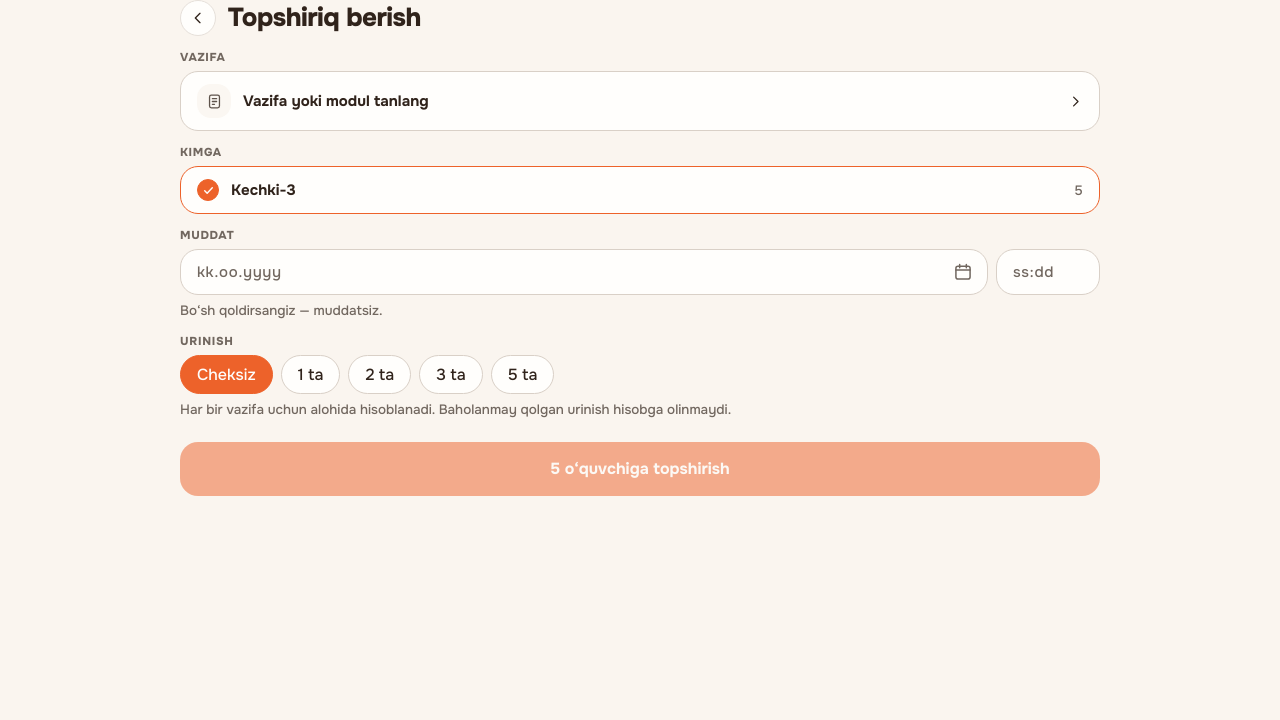
Scenario: one press, one write › stays live after a FAILED write so the teacher can retry
Click the button "Vazifa yoki modul tanlang" at (214, 101), box [180,71,1100,131]
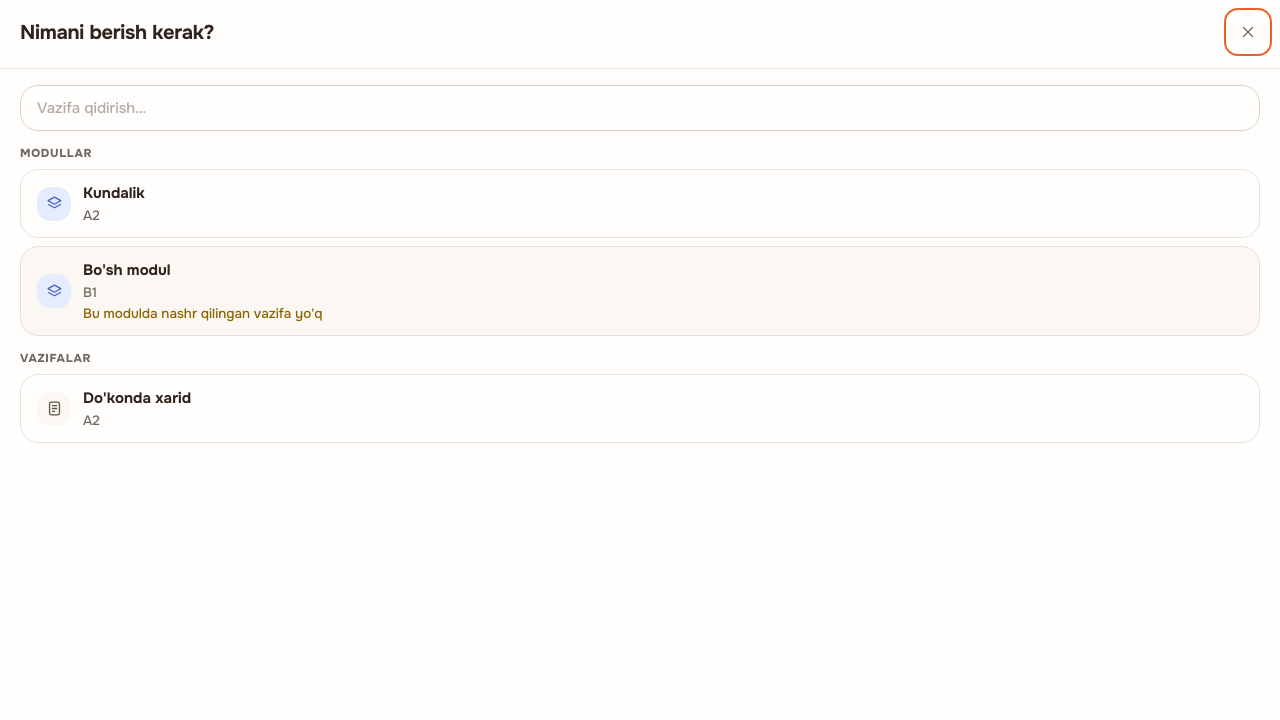
Click the button "Do'konda xarid A2" at (54, 408), box [20,374,1260,443]
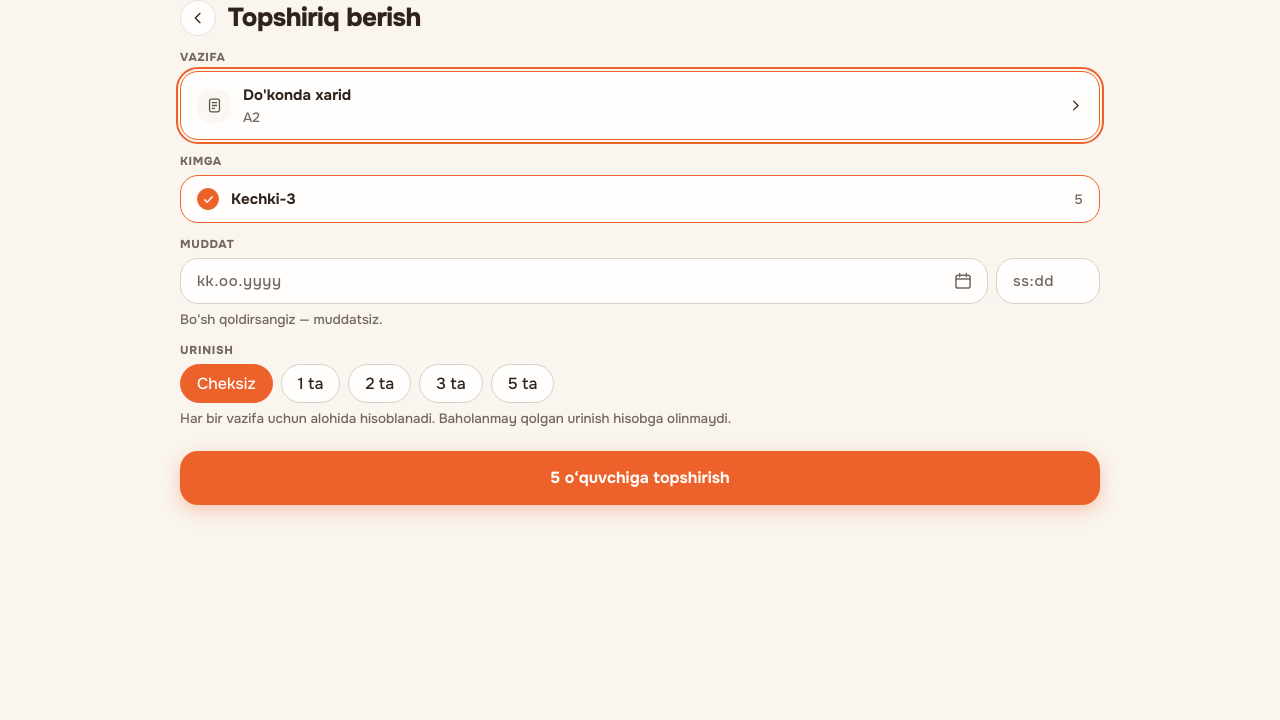
Click the button "5 o‘quvchiga topshirish" at (640, 478), box [180,451,1100,505]
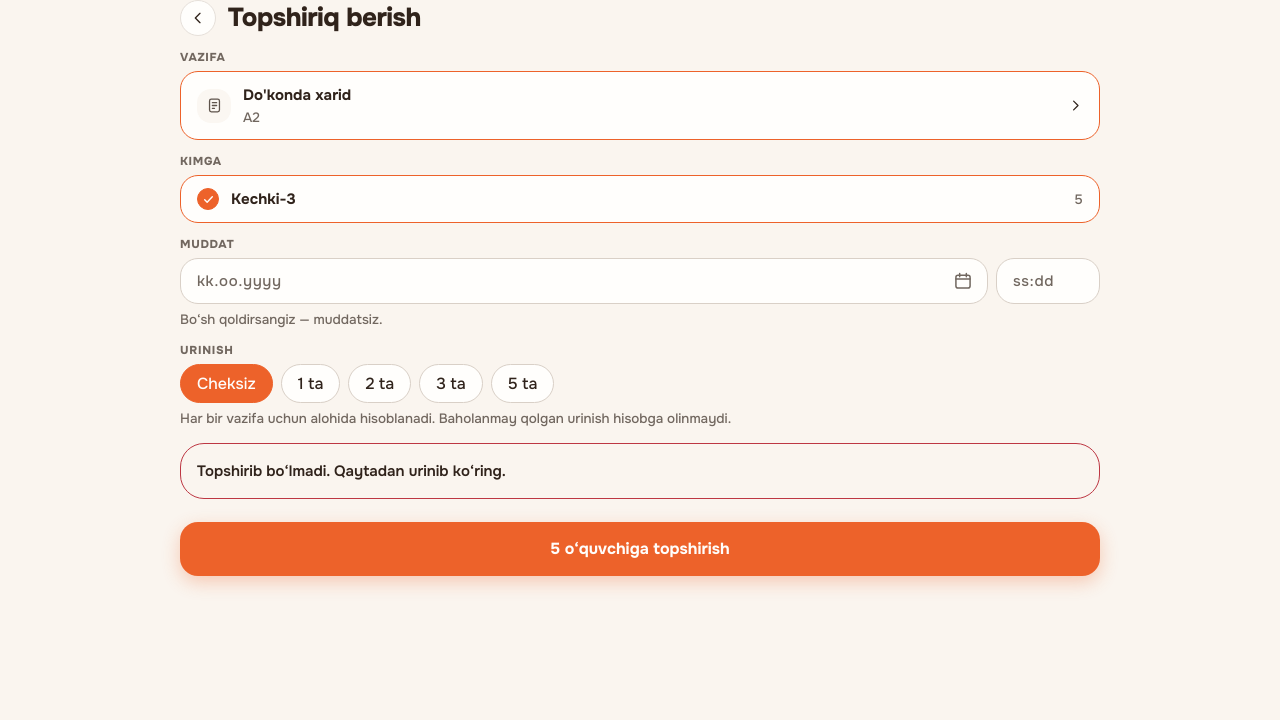
Expected: the text "Topshirib bo‘lmadi. Qaytadan urinib ko‘ring." is shown, [197,461,506,481]
